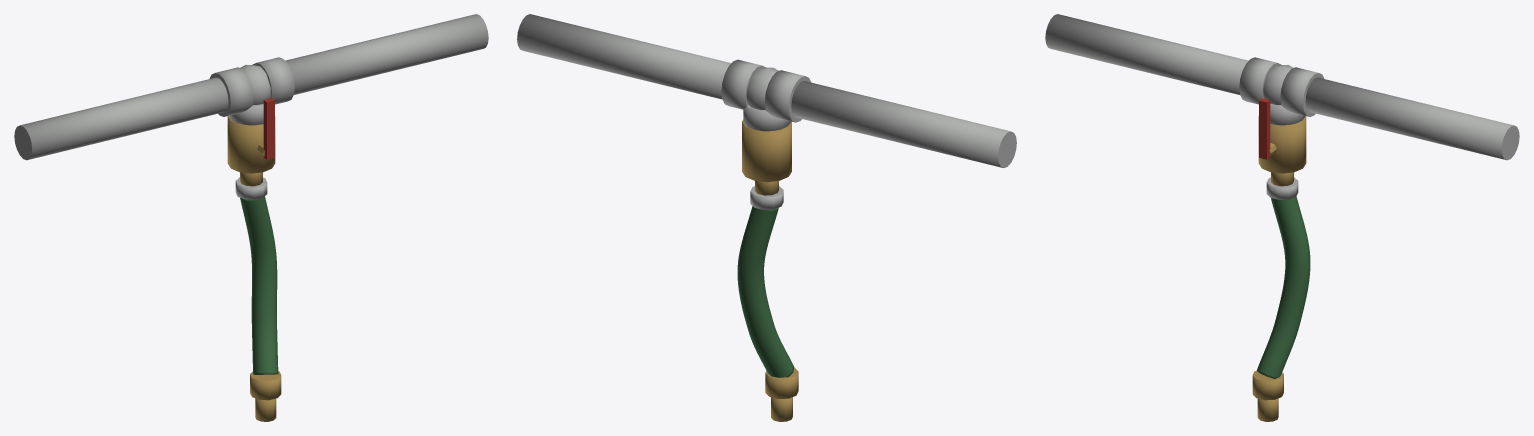
Rendered from barrel_pump_tee.obj.
3 views of the same model, side by side, from view 1: azimuth 30°, elevation 25°; view 2: azimuth 150°, elevation 25°; view 3: azimuth 330°, elevation 25° (orthographic). The views are drawn at different scales.
Parts seen in each view (by area): view 1: pipe8, pipe2, hose, valve_body, elbow_socket8, elbow_socket2, spigot_nut, elbow_hub, valve_lever, elbow_socket1, hose_collar, spigot; view 2: pipe8, pipe2, hose, valve_body, elbow_socket8, elbow_socket2, elbow_hub, elbow_socket1, spigot_nut, hose_collar, spigot; view 3: pipe2, pipe8, hose, valve_body, elbow_socket2, elbow_socket8, spigot_nut, elbow_hub, valve_lever, elbow_socket1, hose_collar, spigot.
Part boxes in pixels (<box>): pipe8: <box>14,77,228,160</box>; pipe2: <box>285,14,488,94</box>; hose: <box>240,196,278,374</box>; valve_body: <box>227,116,275,173</box>; elbow_socket8: <box>209,67,253,116</box>; elbow_socket2: <box>252,57,294,104</box>; spigot_nut: <box>250,371,281,400</box>; elbow_hub: <box>240,65,270,104</box>; valve_lever: <box>263,98,274,159</box>; elbow_socket1: <box>229,103,263,125</box>; hose_collar: <box>235,177,267,199</box>; spigot: <box>255,398,276,421</box>; pipe8: <box>791,81,1016,167</box>; pipe2: <box>517,14,731,99</box>; hose: <box>737,206,794,377</box>; valve_body: <box>742,119,791,182</box>; elbow_socket8: <box>764,70,811,122</box>; elbow_socket2: <box>721,59,765,109</box>; elbow_hub: <box>746,67,778,109</box>; elbow_socket1: <box>743,105,790,131</box>; spigot_nut: <box>765,367,798,398</box>; hose_collar: <box>750,186,783,209</box>; spigot: <box>771,397,792,421</box>; pipe2: <box>1305,77,1519,160</box>; pipe8: <box>1045,14,1248,94</box>; hose: <box>1256,196,1310,378</box>; valve_body: <box>1258,116,1306,173</box>; elbow_socket2: <box>1280,67,1324,116</box>; elbow_socket8: <box>1239,57,1281,104</box>; spigot_nut: <box>1252,370,1283,400</box>; elbow_hub: <box>1263,65,1293,104</box>; valve_lever: <box>1259,98,1270,159</box>; elbow_socket1: <box>1270,103,1304,125</box>; hose_collar: <box>1266,177,1298,199</box>; spigot: <box>1257,398,1278,421</box>.
Size of the model in its own units: 1 by 0.7139 by 0.1275.
Materials: 4 (4 with a texture image).
